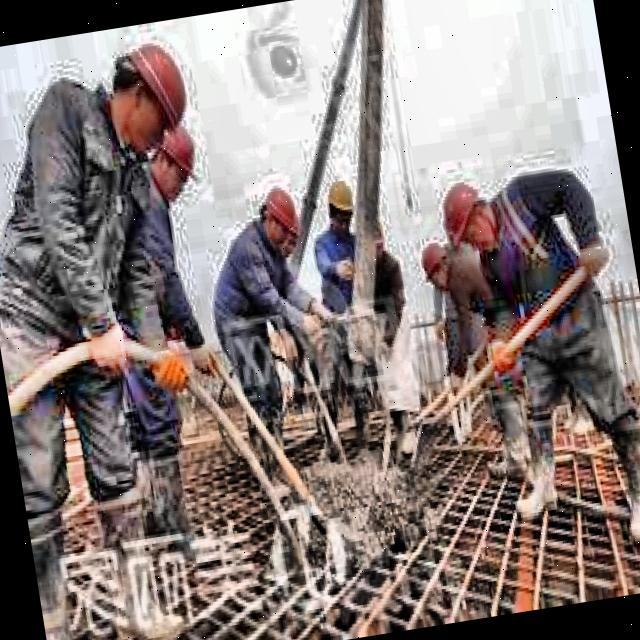helmet: (97, 35, 202, 161), (134, 118, 214, 209), (434, 176, 500, 264), (253, 180, 305, 258), (416, 238, 459, 294), (321, 171, 359, 233)
